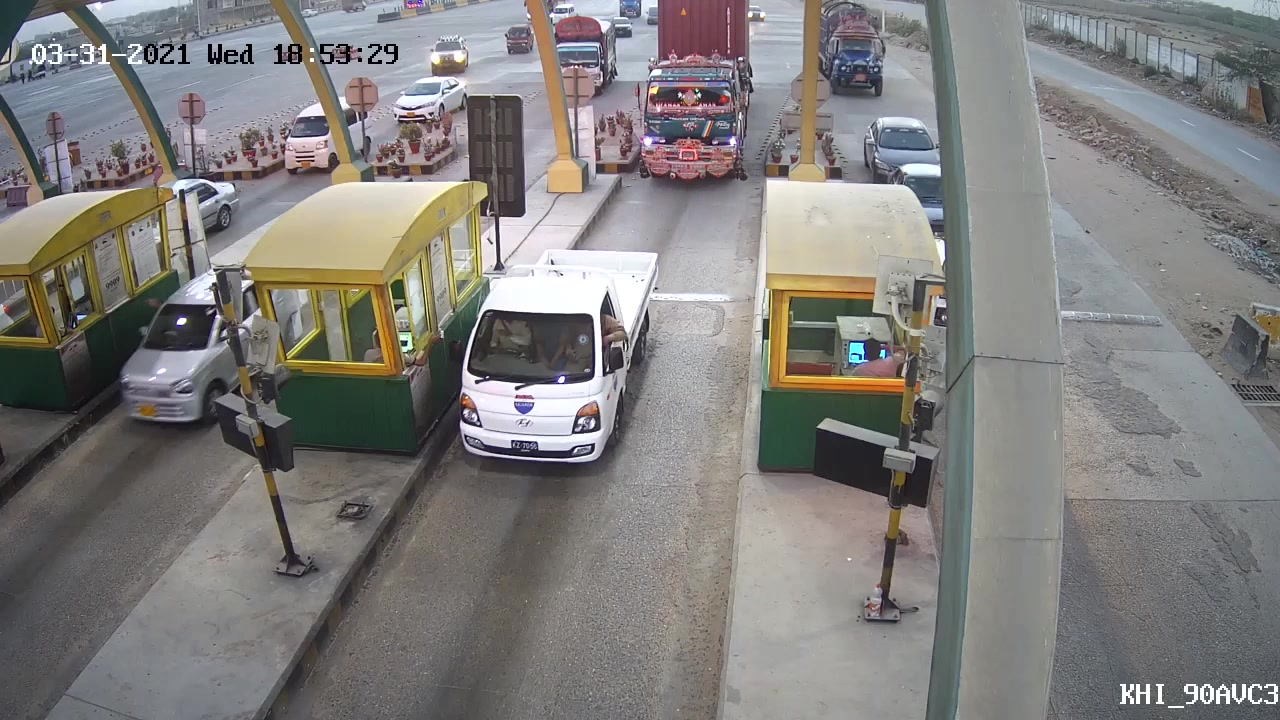F2: (460, 243, 663, 469)
F6: (636, 1, 757, 189)
